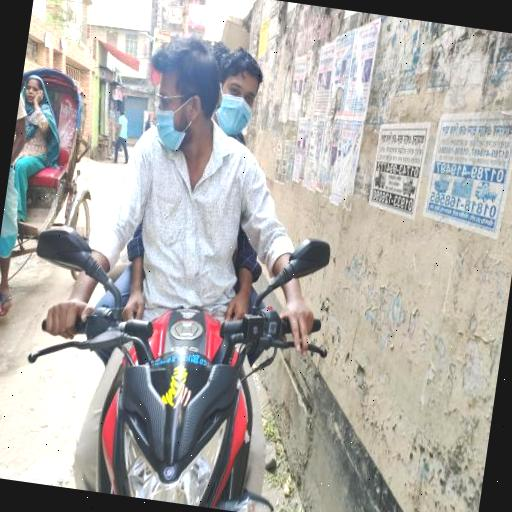no helmet: (121, 30, 242, 252)
triple riding: (36, 7, 373, 512)
